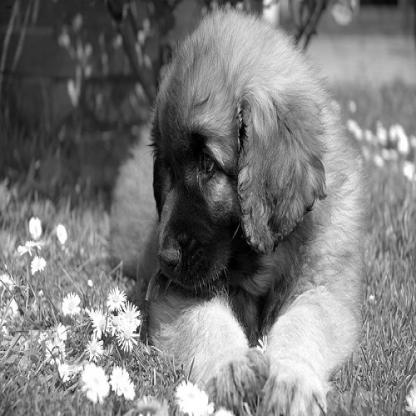Leonberger: (78, 3, 390, 414)
